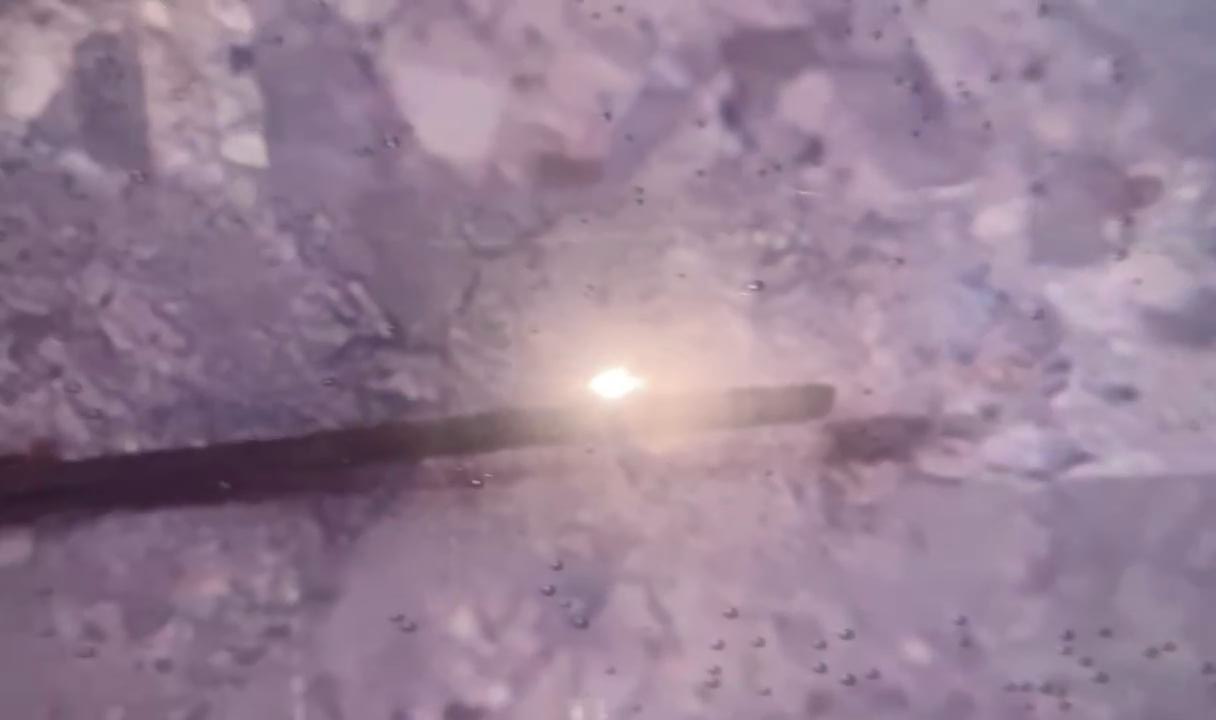Exposed reinforcement: (1, 384, 836, 528)
